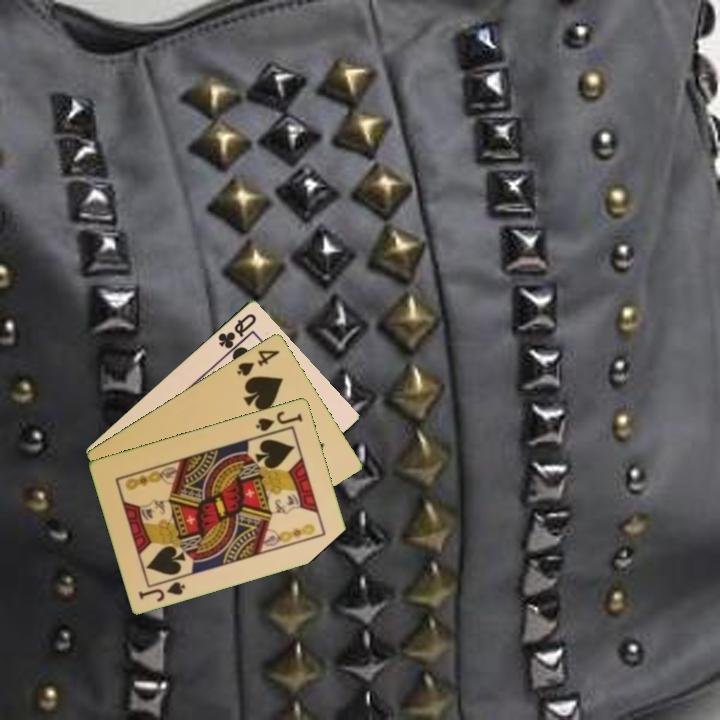4s: (233, 346, 283, 379)
Js: (252, 407, 306, 434), (135, 578, 189, 604)
Qc: (214, 309, 259, 351)
